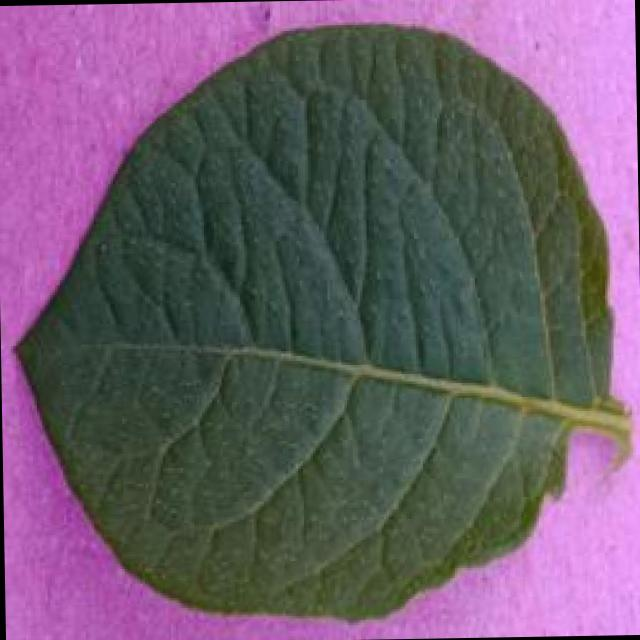Potato_Healthy: (7, 19, 622, 620)
